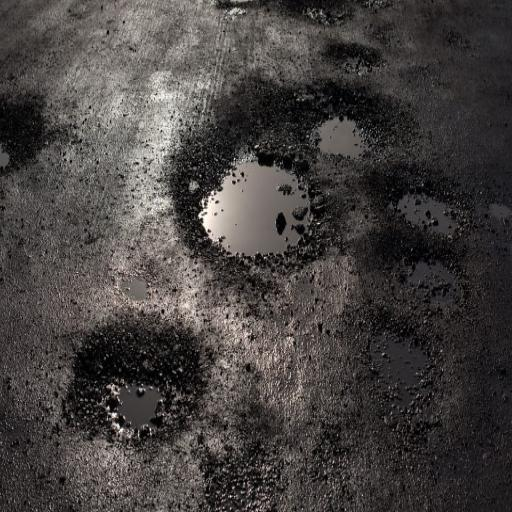pothole: (313, 66, 440, 320), (82, 244, 208, 459), (186, 74, 298, 295), (368, 328, 475, 467)
